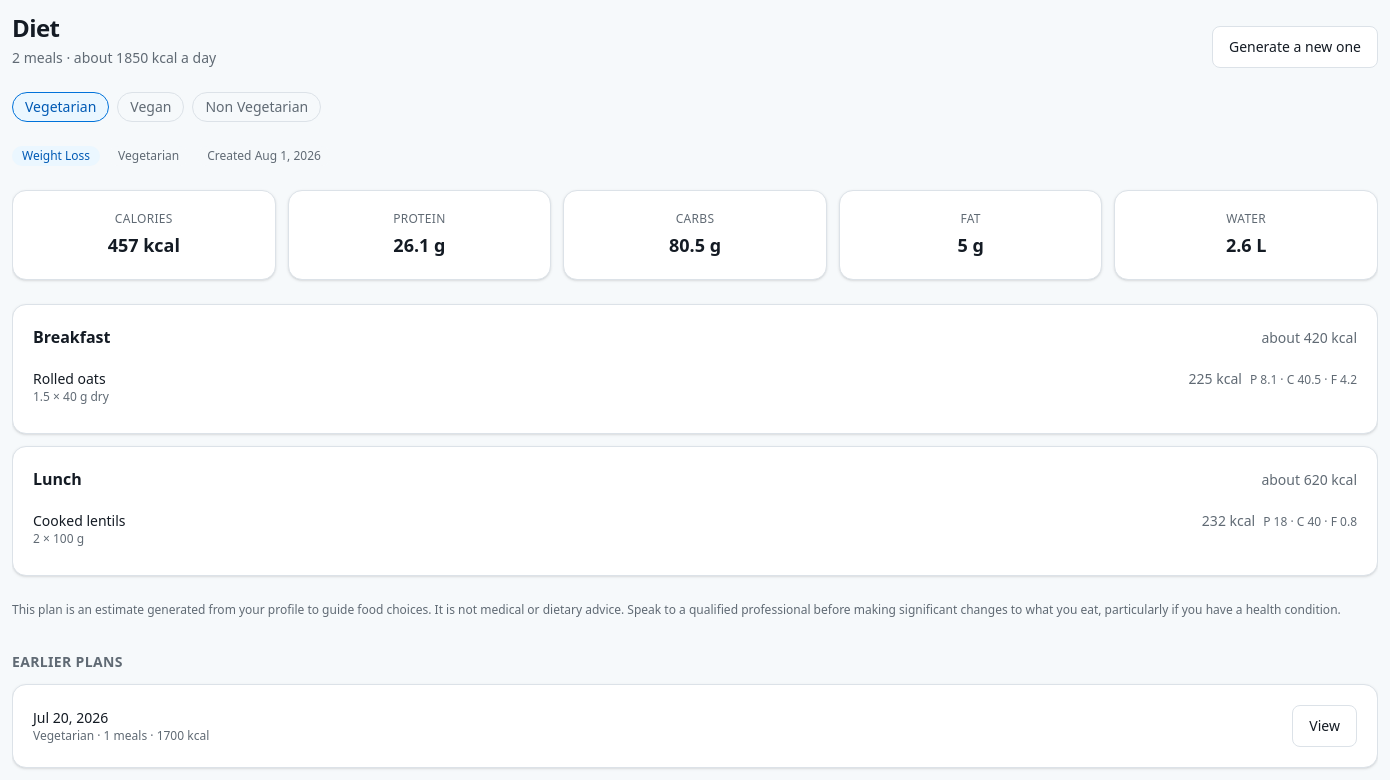
Test: the diet page › lists earlier plans and opens one
Expected: the heading "Earlier plans" is shown, [12,652,123,670]
Step 1. Click the button "View" → (1325, 726), box [1292,704,1357,746]
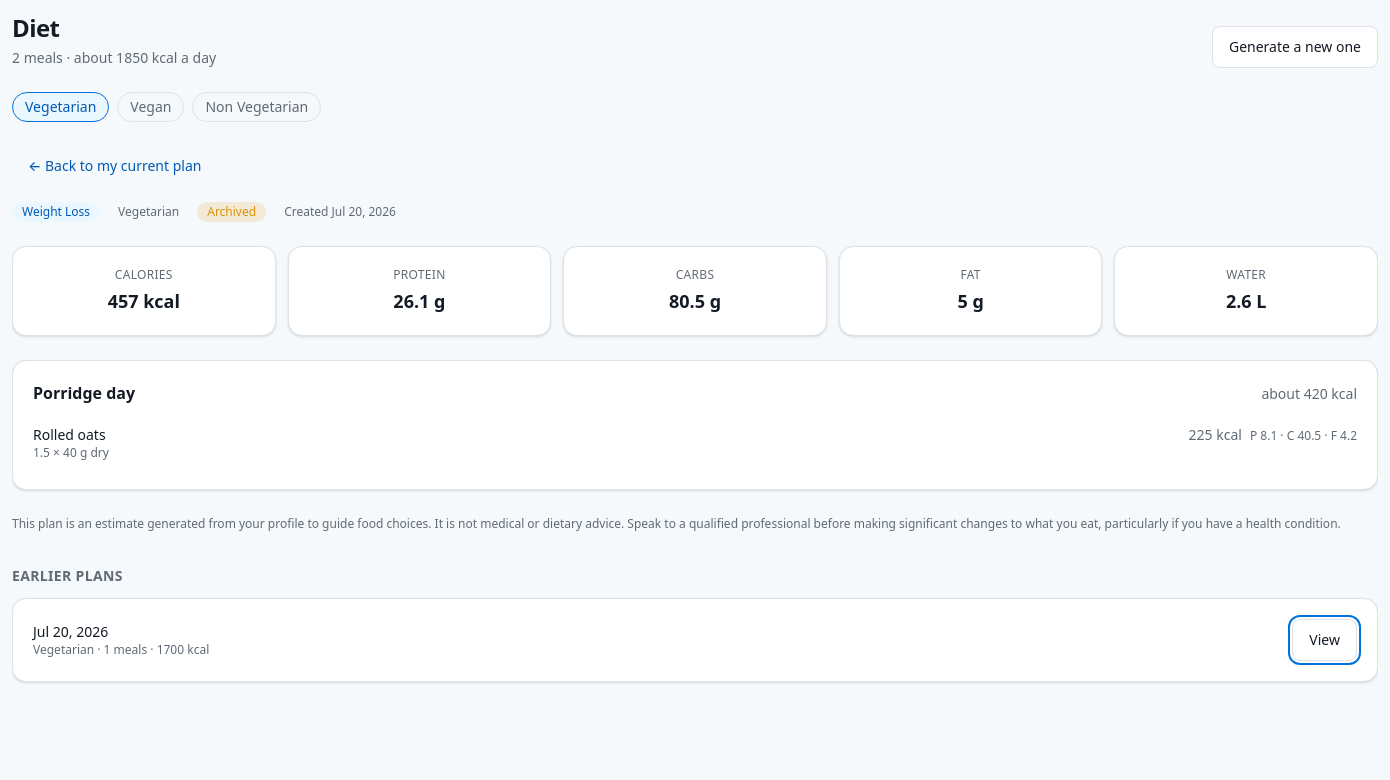
Expected: the heading "Porridge day" is shown, [33,381,135,405]
